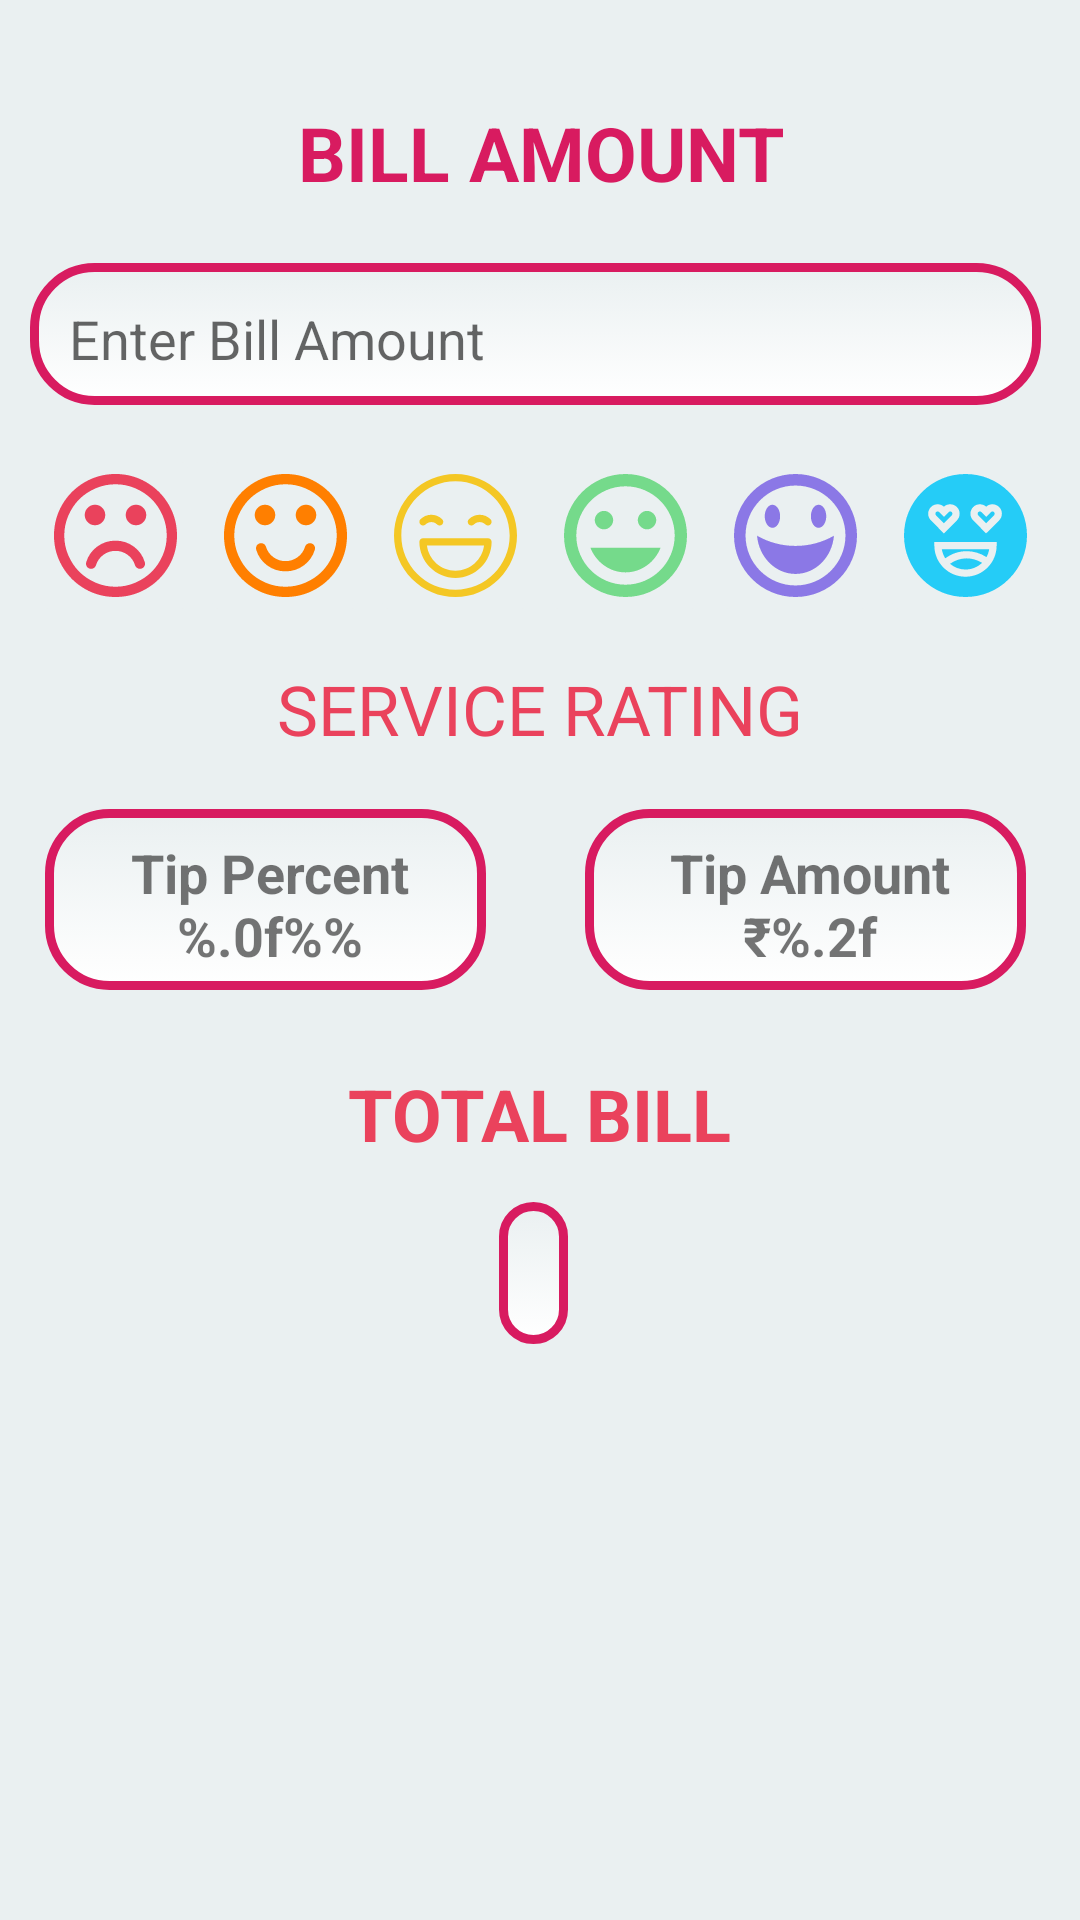

Icon bounding boxes for this 1080 × 1920 phone screenshot, format (x1, y1, x2, y2):
emoji: (904, 474, 1027, 597)
frown: (54, 474, 177, 597)
happy: (394, 474, 517, 597), (734, 474, 857, 597)
smile: (224, 474, 347, 597)
